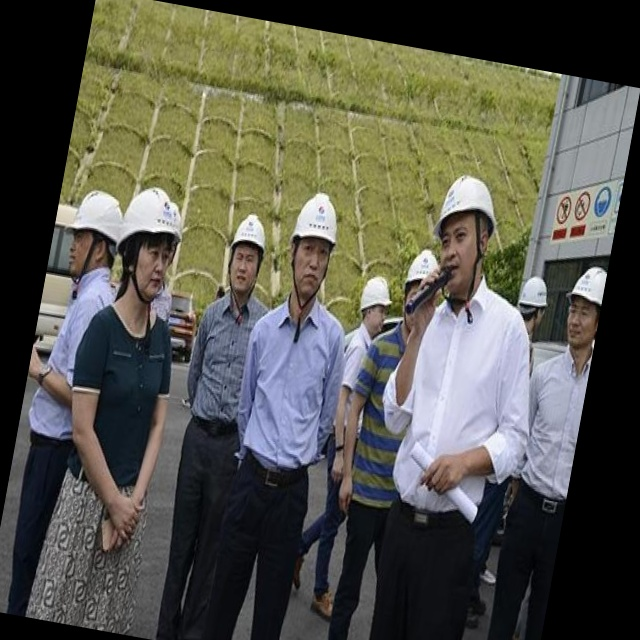Con_Casco: (280, 187, 346, 299)
Sin_Chaleco: (227, 294, 354, 482)
